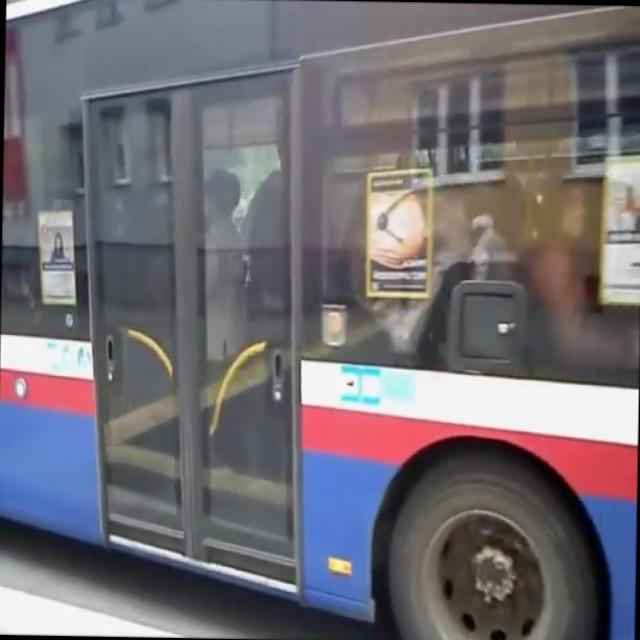bus-door: (89, 74, 296, 582)
